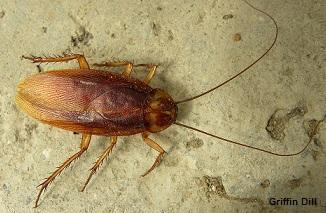cockroach: (17, 56, 180, 146)
